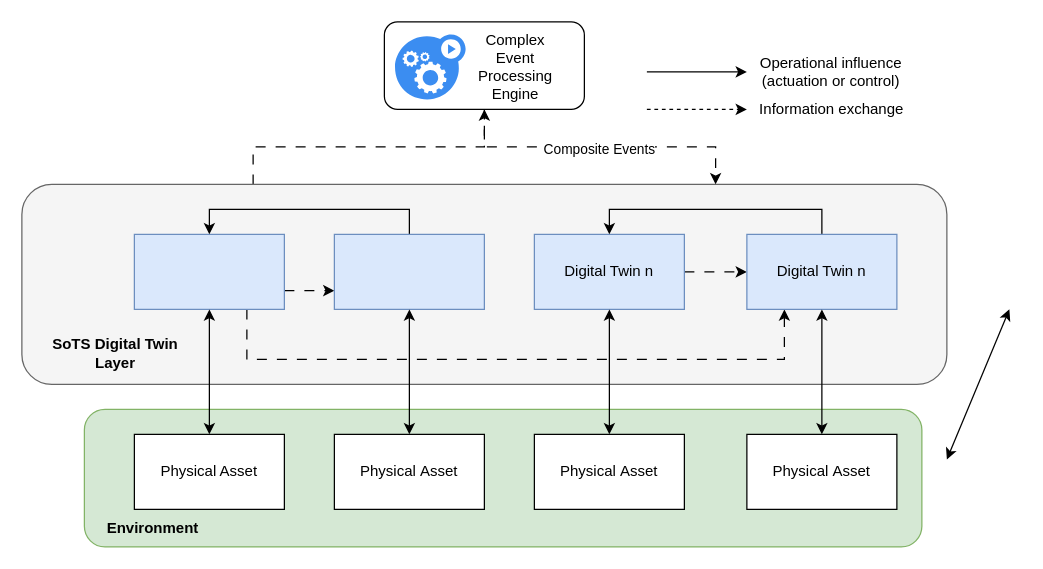
The diagram is 1043 pixels wide and 569 high, and some of its shapes have lost their labels. Each missing label, with the box of its shape:
Digital Twin 1: (133, 233, 284, 309)
Digital Twin 2: (333, 233, 484, 309)
